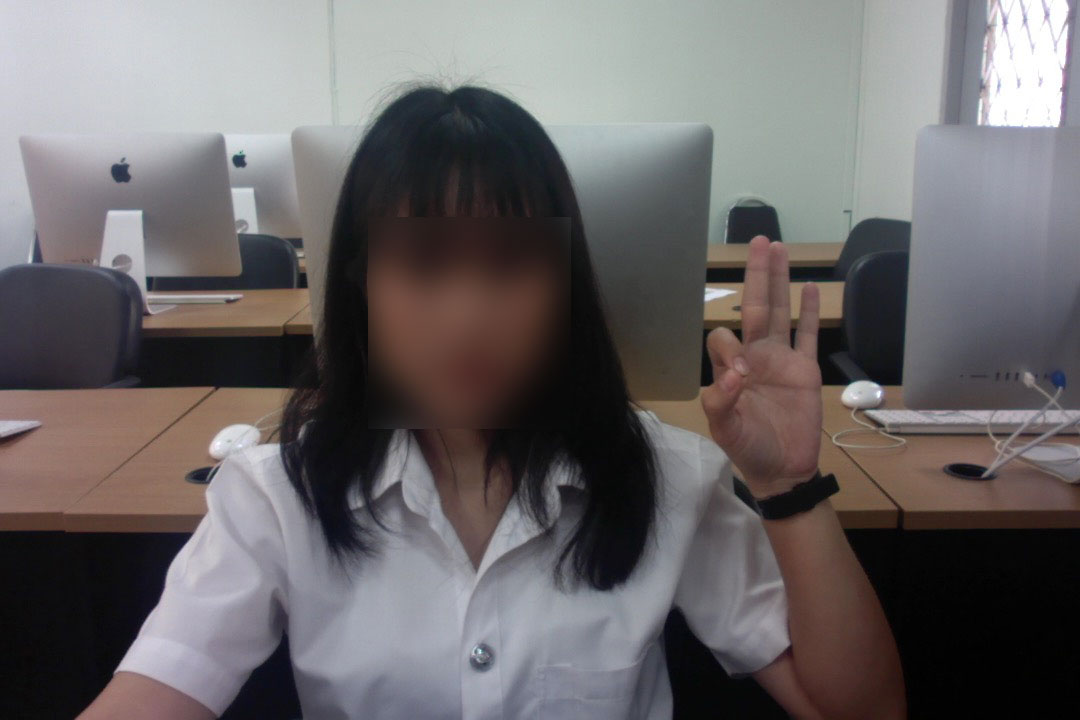for: (681, 213, 863, 531)
